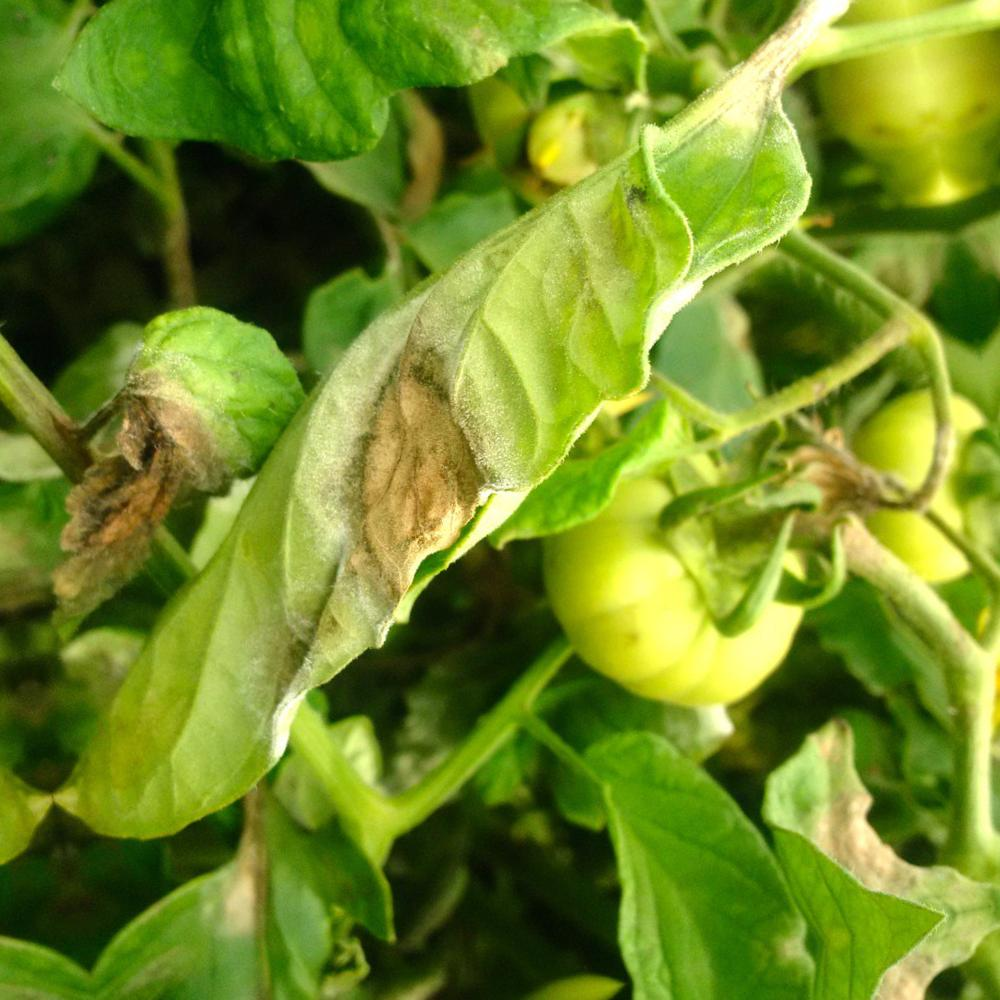Tomato leaf late blight: (0, 6, 982, 885), (0, 272, 348, 649)
